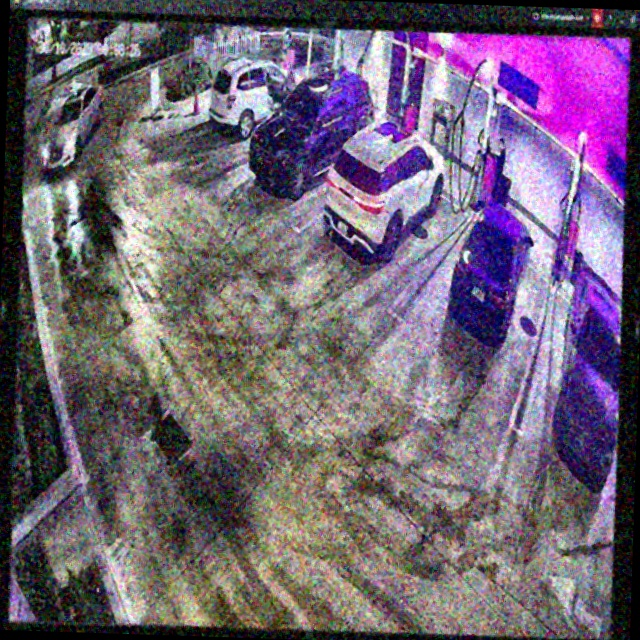Car: (246, 64, 376, 200), (329, 115, 445, 266), (449, 198, 533, 346)
